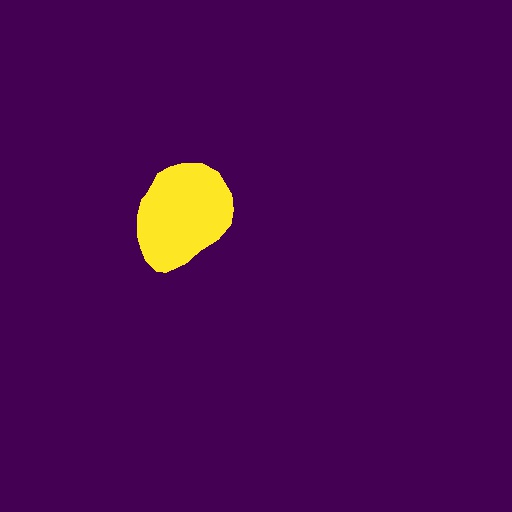Gliomia_tumour: (137, 163, 234, 273)
